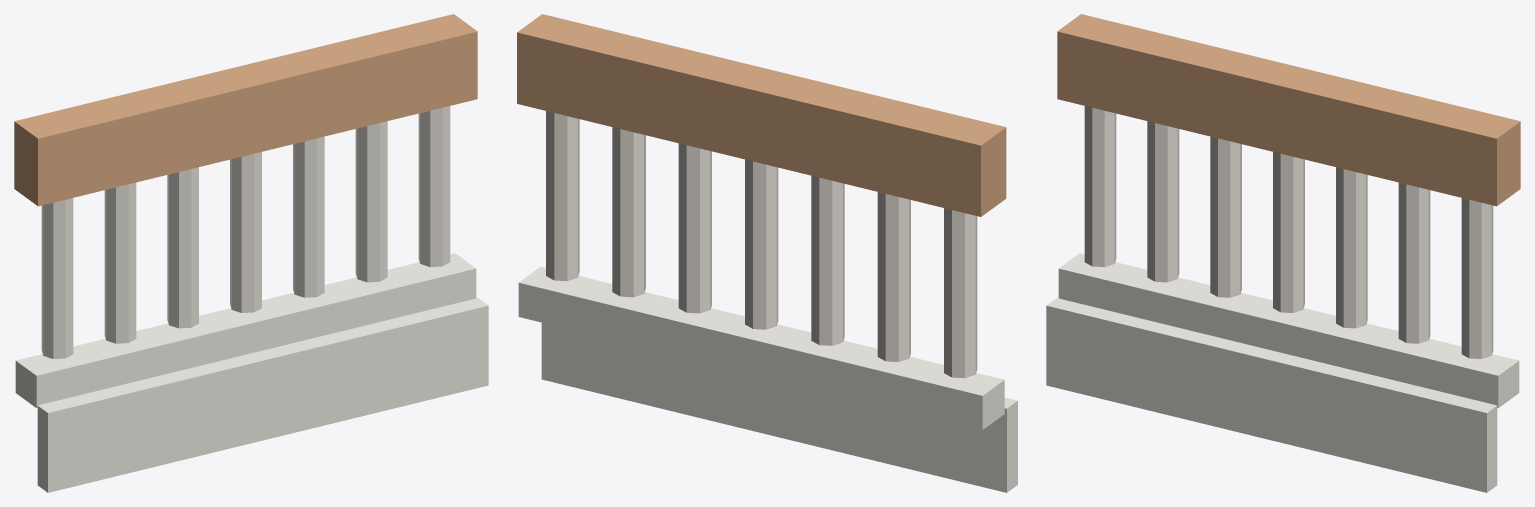
File: balustrade_end.glb
3 views of the same model, side by side, from view 1: azimuth 30°, elevation 25°; view 2: azimuth 150°, elevation 25°; view 3: azimuth 330°, elevation 25° (orthographic). The views are drawn at different scales.
Parts seen in each view (by area): view 1: balustrade_end_trim, balustrade_end_wood, balustrade_end_cornice; view 2: balustrade_end_trim, balustrade_end_wood, balustrade_end_cornice; view 3: balustrade_end_trim, balustrade_end_wood, balustrade_end_cornice.
Boxes of the visible parts, <box> form: balustrade_end_trim: <box>15,253,488,492</box>; balustrade_end_wood: <box>14,14,477,206</box>; balustrade_end_cornice: <box>41,106,450,358</box>; balustrade_end_trim: <box>518,266,1017,492</box>; balustrade_end_wood: <box>517,14,1006,216</box>; balustrade_end_cornice: <box>546,111,977,378</box>; balustrade_end_trim: <box>1046,253,1519,492</box>; balustrade_end_wood: <box>1057,14,1520,206</box>; balustrade_end_cornice: <box>1084,106,1493,358</box>.
Size of the model in its own units: 1.7 by 1.28 by 0.23.
